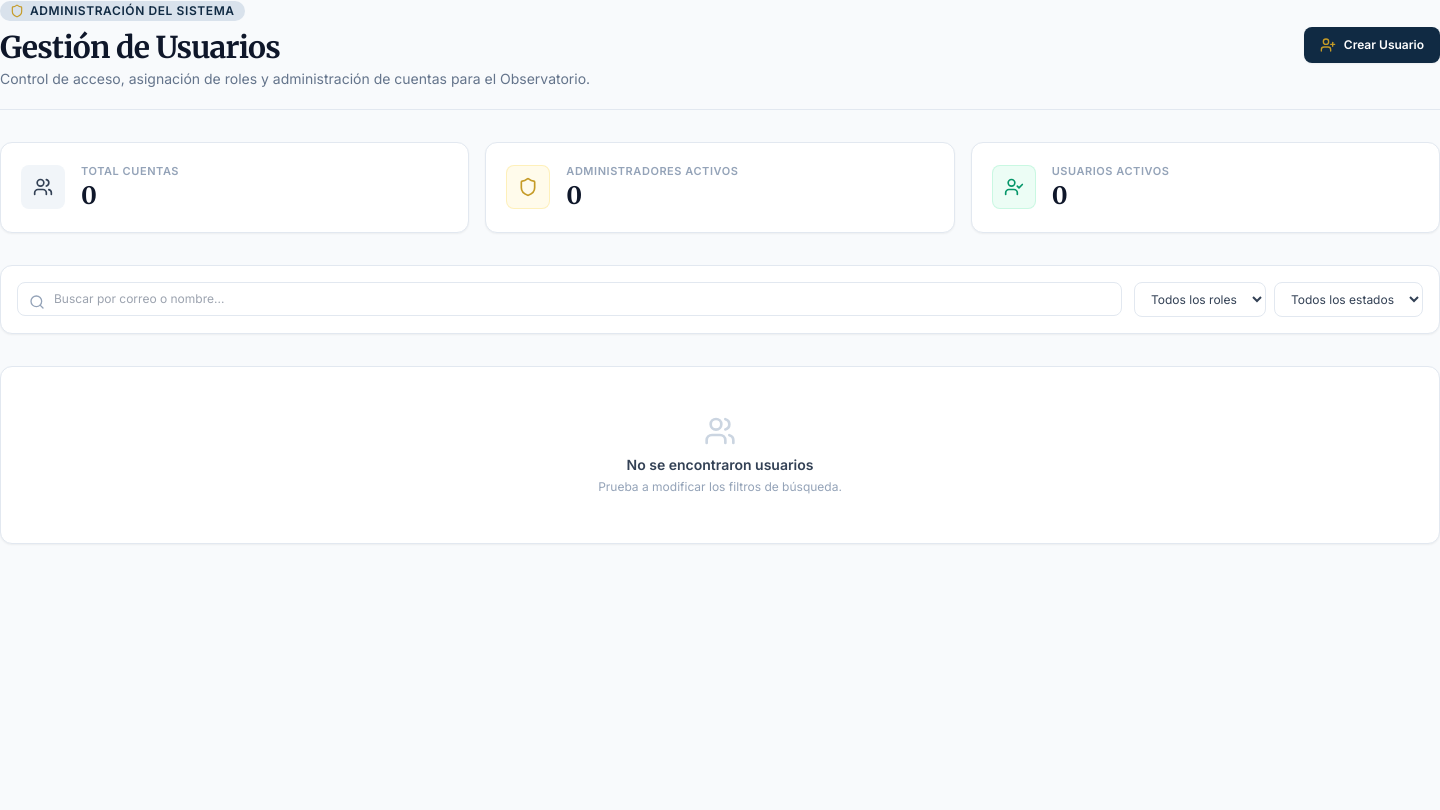
Test: Administrative Users & Role-Based Access Control (Bloque 11A) › opens and cancels user creation modal
// Open create modal
What coordinates should you click on to do the following:
click the button "Crear Usuario"
I would click on:
 (1372, 44)
Its box is [1304,26,1439,62].
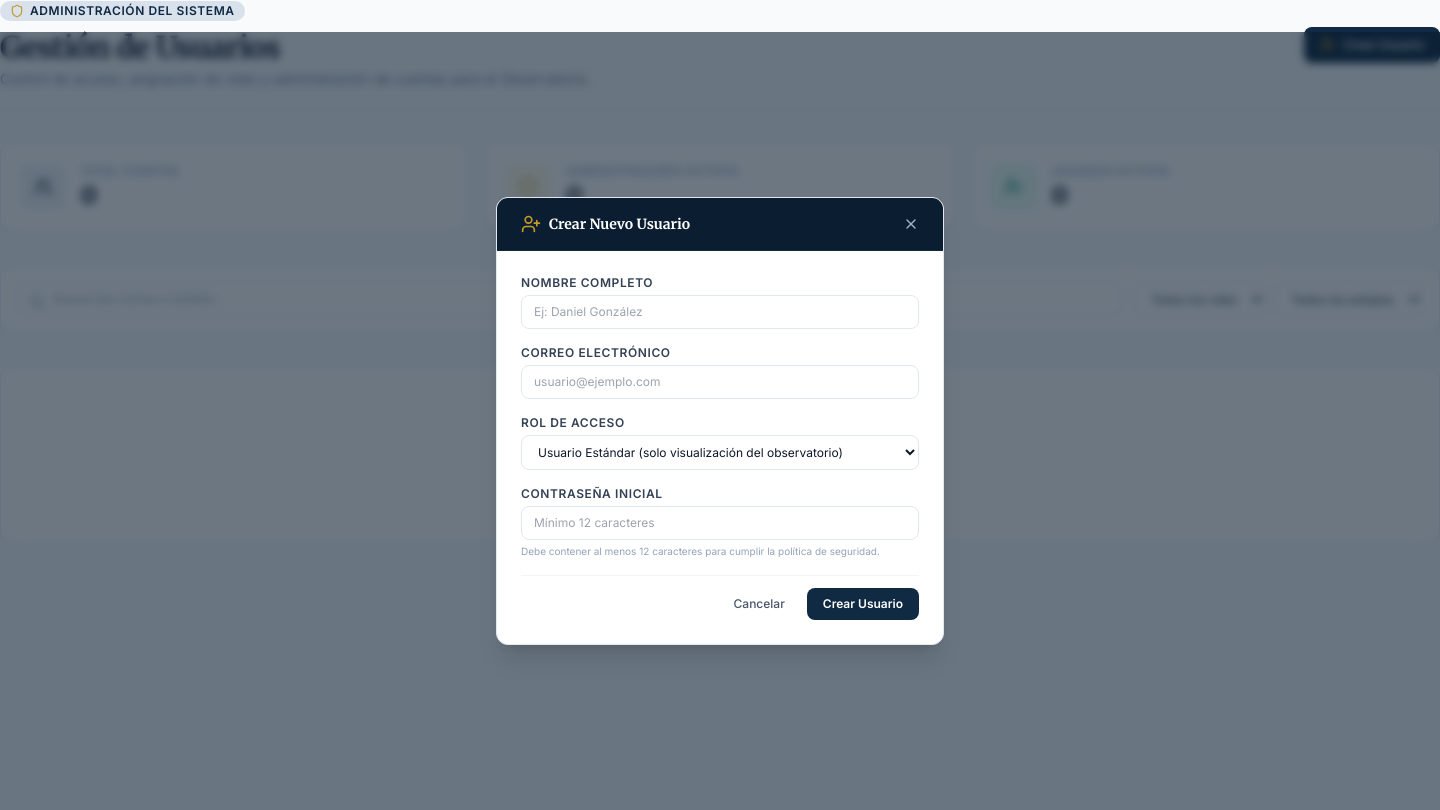
Check: the heading "Crear Nuevo Usuario" is shown, box [549,214,690,234]
Check: the password field with placeholder "Mínimo 12 caracteres" is shown, box [521,506,919,540]
// Click cancel
What coordinates should you click on to do the following:
click the button "Cancelar"
I would click on:
 (759, 604)
Its box is [720,588,799,620].
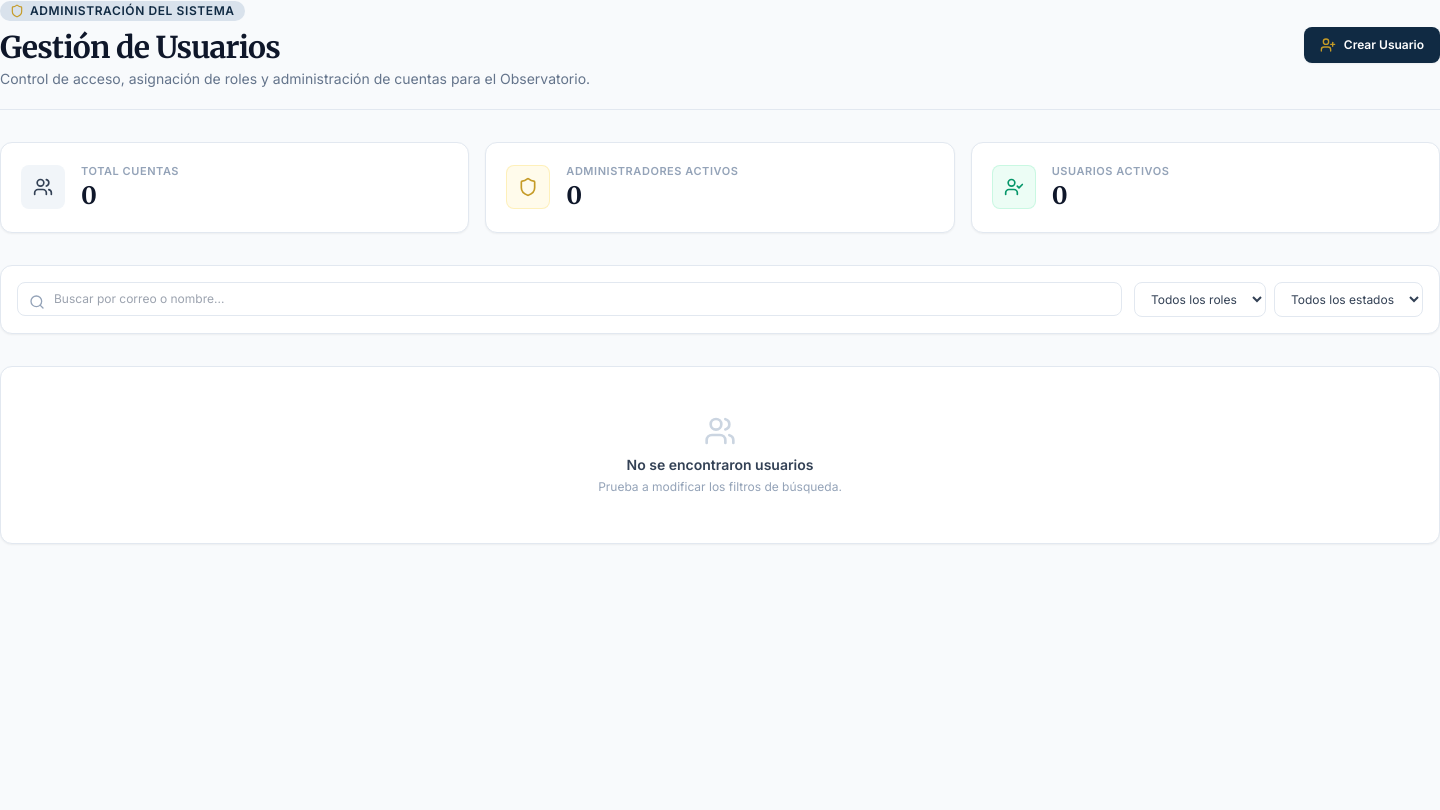
Check: the heading "Crear Nuevo Usuario" is gone
